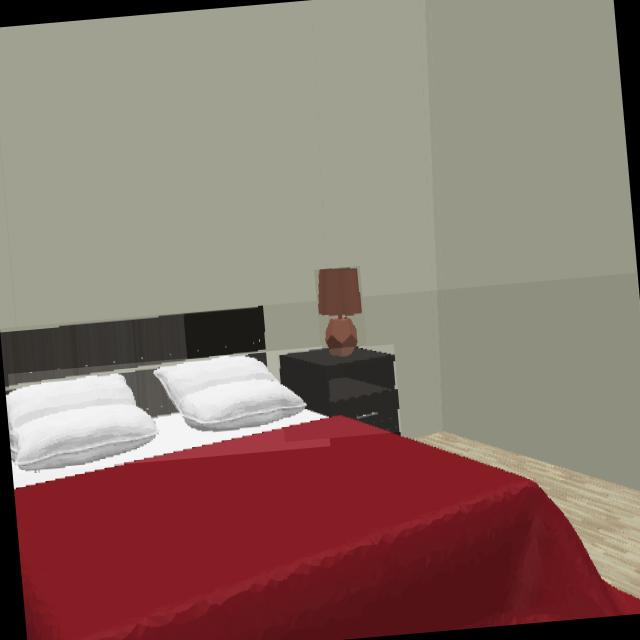bed: (0, 306, 640, 640)
lamp: (317, 268, 363, 362)
nighttable: (279, 348, 400, 432)
pillow: (10, 355, 328, 472)
